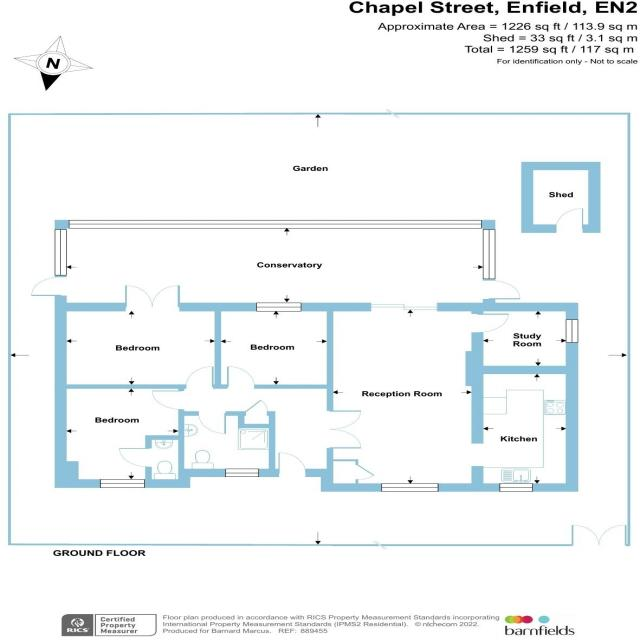DOOR: (471, 312, 511, 334), (276, 451, 307, 477), (117, 447, 152, 468), (226, 366, 256, 389), (151, 390, 185, 410), (198, 411, 227, 434), (185, 366, 214, 389)
DOUBLE DOOR: (120, 279, 183, 312)
ROOM: (326, 303, 579, 492), (54, 285, 222, 389), (54, 384, 185, 488), (214, 302, 333, 389), (465, 302, 579, 375)
WINDOW: (381, 483, 439, 492), (99, 478, 146, 489), (255, 302, 302, 312), (564, 319, 579, 343), (225, 468, 260, 478), (499, 483, 534, 492)
